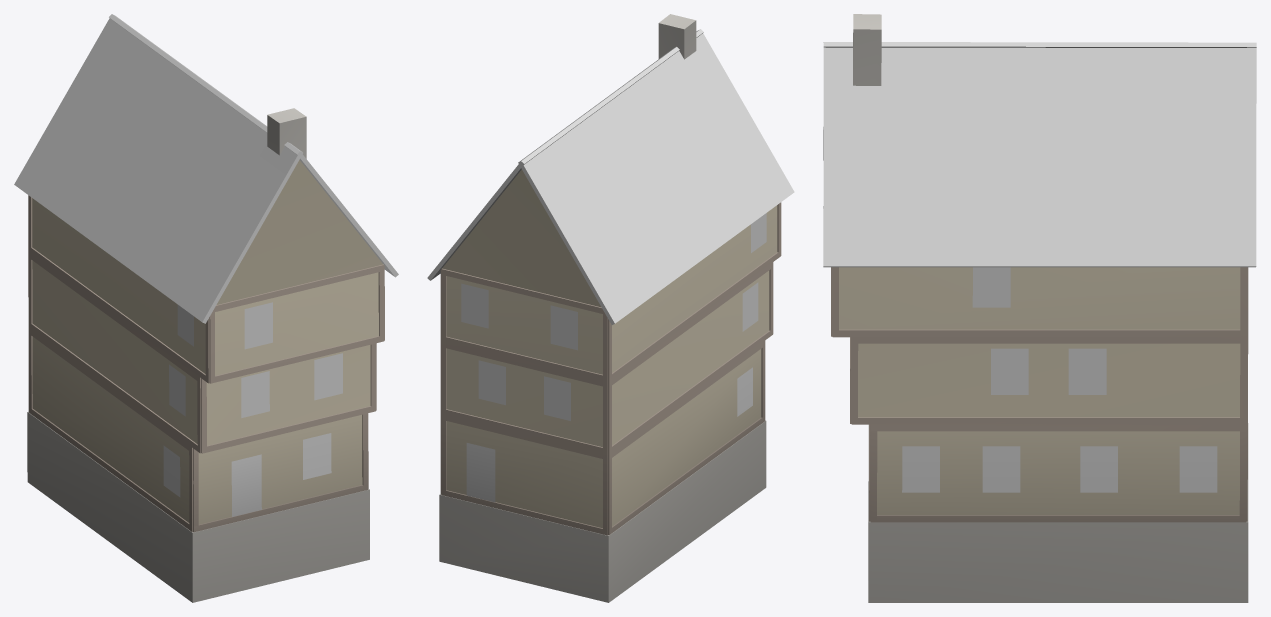
The model's file is townhouse_2.glb.
3 views of the same model, side by side, from view 1: azimuth 30°, elevation 25°; view 2: azimuth 150°, elevation 25°; view 3: azimuth 270°, elevation 25° (orthographic). The views are drawn at different scales.
Visible parts, largest first — view 1: townhouse_2; view 2: townhouse_2; view 3: townhouse_2.
Boxes of the visible parts, x1,y1,x2,y2 form: townhouse_2: (14,14,398,602); townhouse_2: (427,14,794,602); townhouse_2: (823,14,1256,602).
Size of the model in its own units: 6.9 by 15.59 by 11.45.
